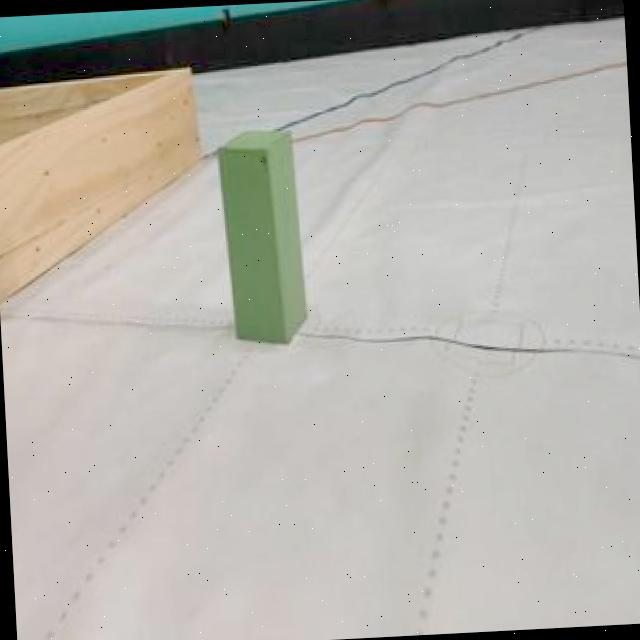greenbox: (212, 124, 310, 349)
